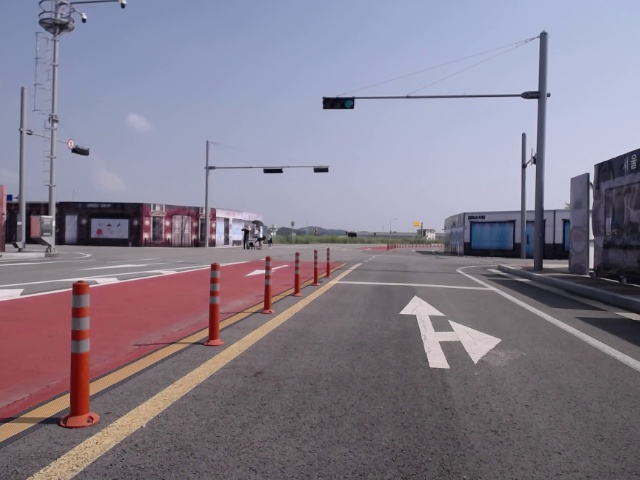green_3: (322, 96, 355, 109)
